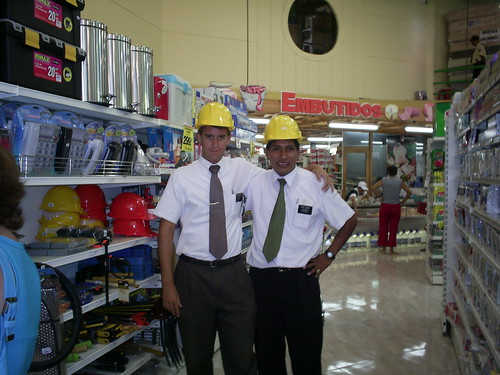hardhat: (109, 191, 159, 222), (42, 184, 81, 218), (76, 181, 108, 209)
person hardhat: (250, 104, 356, 373), (169, 93, 264, 372)
